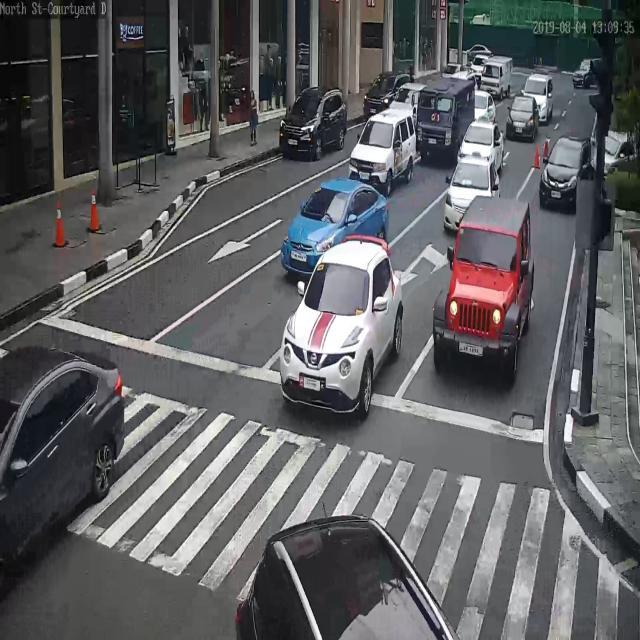bus: (415, 76, 478, 162)
car: (0, 340, 125, 587), (235, 513, 454, 640), (279, 238, 404, 412), (280, 178, 390, 277), (348, 107, 418, 192), (280, 89, 348, 165), (443, 157, 501, 234), (539, 136, 596, 211), (363, 70, 412, 121), (458, 119, 504, 173), (593, 127, 640, 176), (507, 95, 541, 139), (392, 81, 430, 108), (572, 58, 603, 87), (477, 87, 497, 120), (455, 70, 482, 89), (471, 54, 490, 79), (442, 61, 468, 77)
tricycle: (431, 198, 536, 383)
van: (480, 53, 515, 97), (522, 75, 554, 123)
